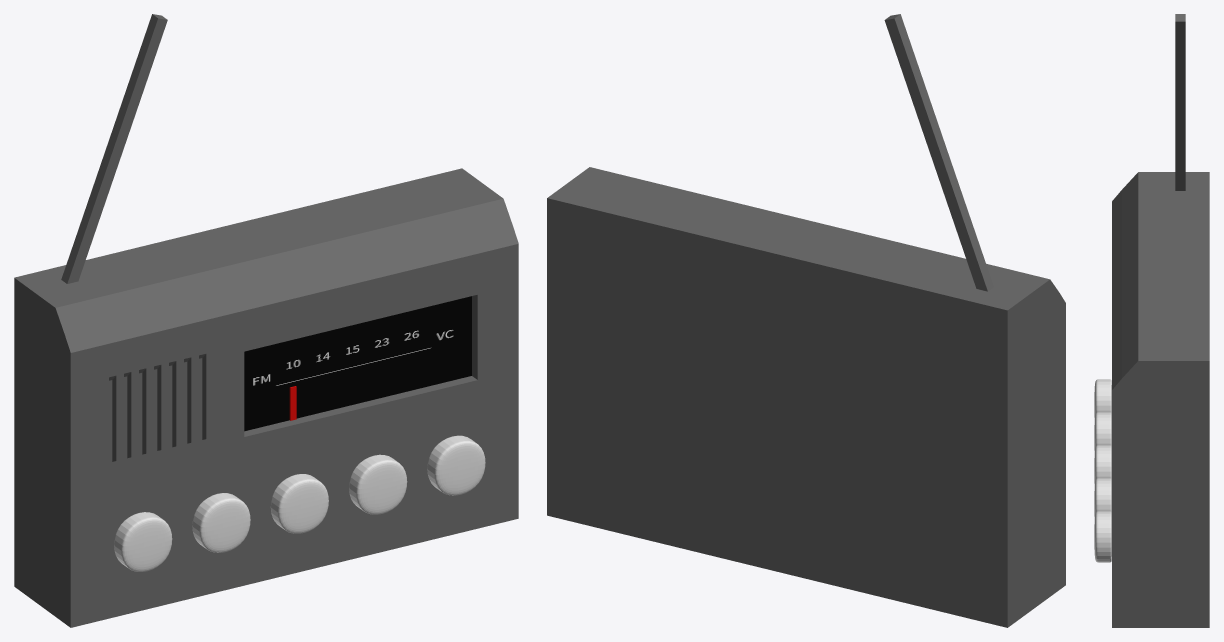
The model's file is radio2.fbx.
3 renders of one model, left to right at view 1: azimuth 30°, elevation 25°; view 2: azimuth 150°, elevation 25°; view 3: azimuth 270°, elevation 25°, orthographic. The views are drawn at different scales.
Visible parts, largest first — view 1: Radio, Button 5, Button 4, Button 2, Button 3, Button; view 2: Radio; view 3: Radio, Button 5, Button, Button 2, Button 3, Button 4.
Boxes of the visible parts, bbox=[...] form: Radio: bbox=[14, 14, 518, 627]; Button 5: bbox=[427, 435, 485, 495]; Button 4: bbox=[349, 454, 407, 514]; Button 2: bbox=[192, 493, 250, 552]; Button 3: bbox=[270, 474, 328, 533]; Button: bbox=[114, 512, 172, 571]; Radio: bbox=[547, 14, 1065, 627]; Radio: bbox=[1112, 14, 1209, 627]; Button 5: bbox=[1094, 511, 1111, 562]; Button: bbox=[1094, 379, 1111, 418]; Button 2: bbox=[1094, 412, 1111, 451]; Button 3: bbox=[1094, 445, 1111, 484]; Button 4: bbox=[1094, 478, 1111, 517].
Size of the model in its own units: 45.68 by 53.83 by 11.8.
Materials: 3 (1 with a texture image).
